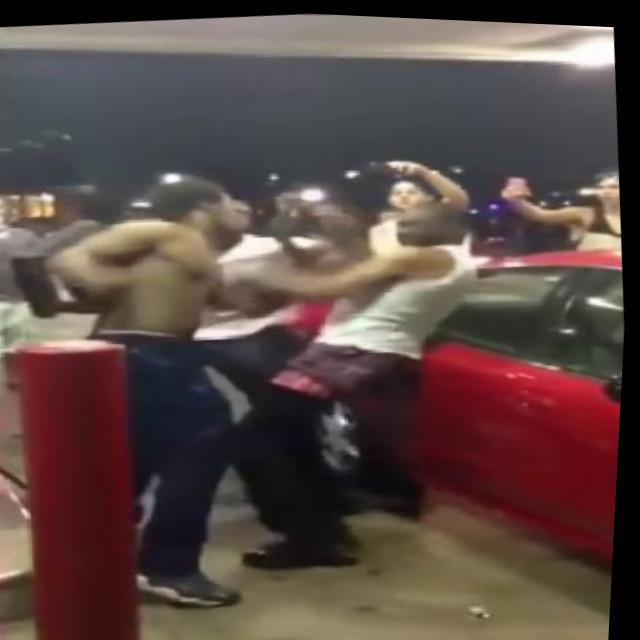fight: (21, 142, 502, 574)
